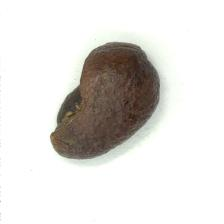NG: (50, 50, 89, 137)
